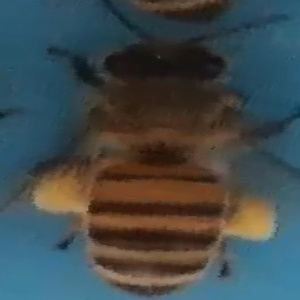bee: (38, 22, 298, 300)
